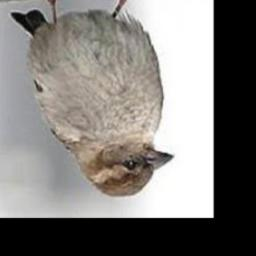Sparrow: (9, 0, 174, 198)
